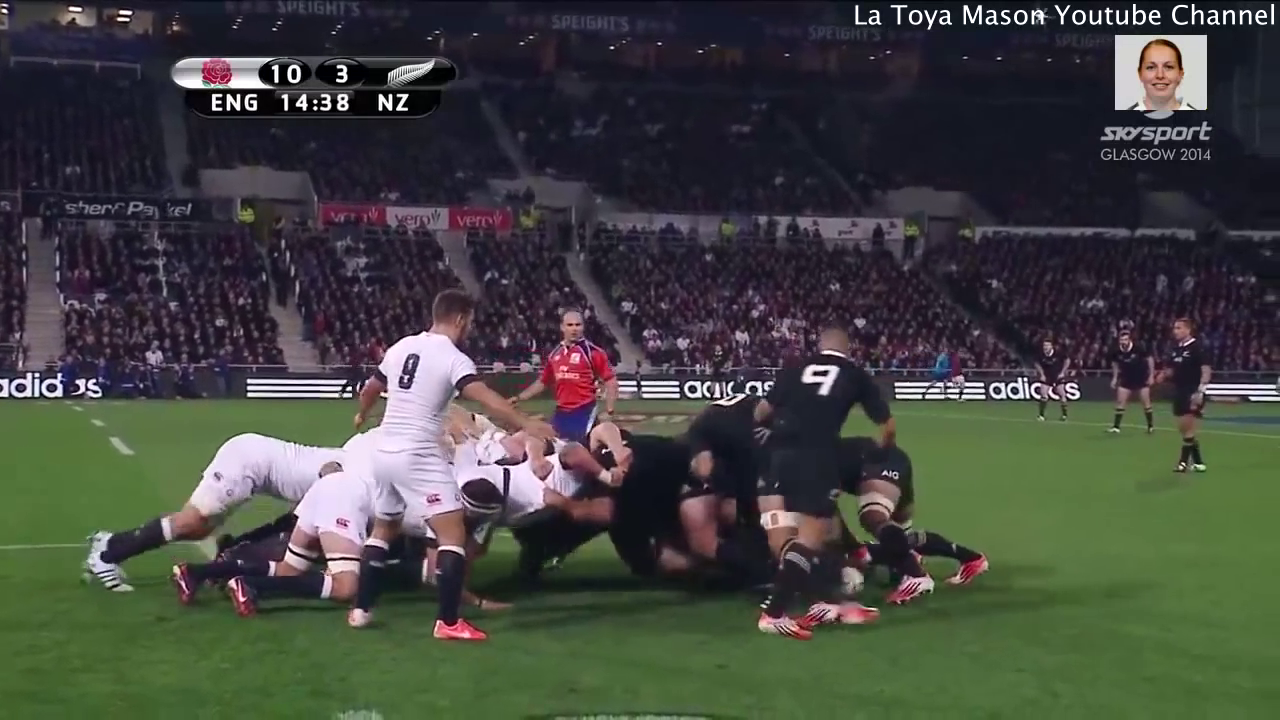player: (337, 284, 554, 650), (151, 464, 518, 624), (736, 315, 909, 652), (65, 420, 336, 604), (501, 309, 629, 447), (1149, 317, 1228, 482), (1098, 325, 1165, 448), (1020, 329, 1082, 428)
scrum: (40, 385, 997, 627)
